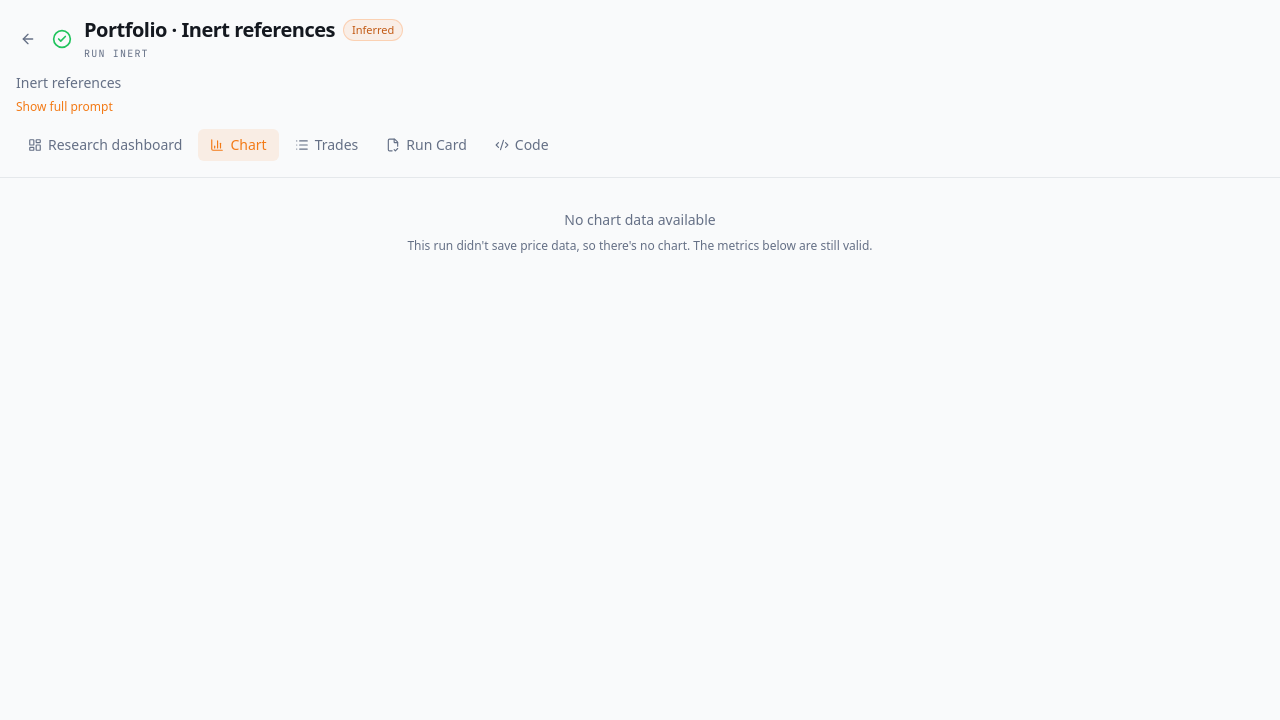
it: RunDetail page › renders artifact references as inert text
What coordinates should you click on to do the following:
click the tab "Run Card"
I would click on:
 (427, 145)
Its box is [374,129,479,161].
(page scrolled)
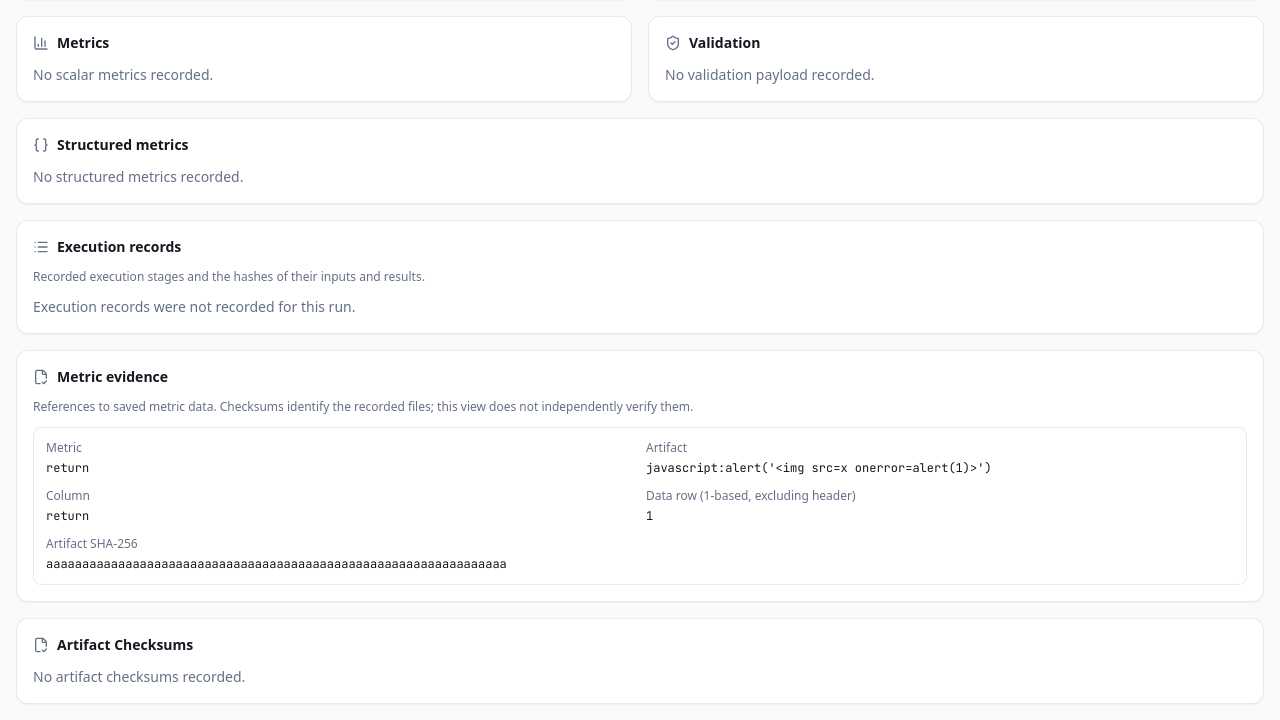
Now the text "javascript:alert('<img src=x onerror=alert(1)>')" is shown, box [646,460,992,476]
